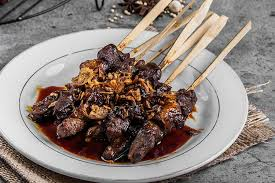sate: (25, 37, 214, 169)
